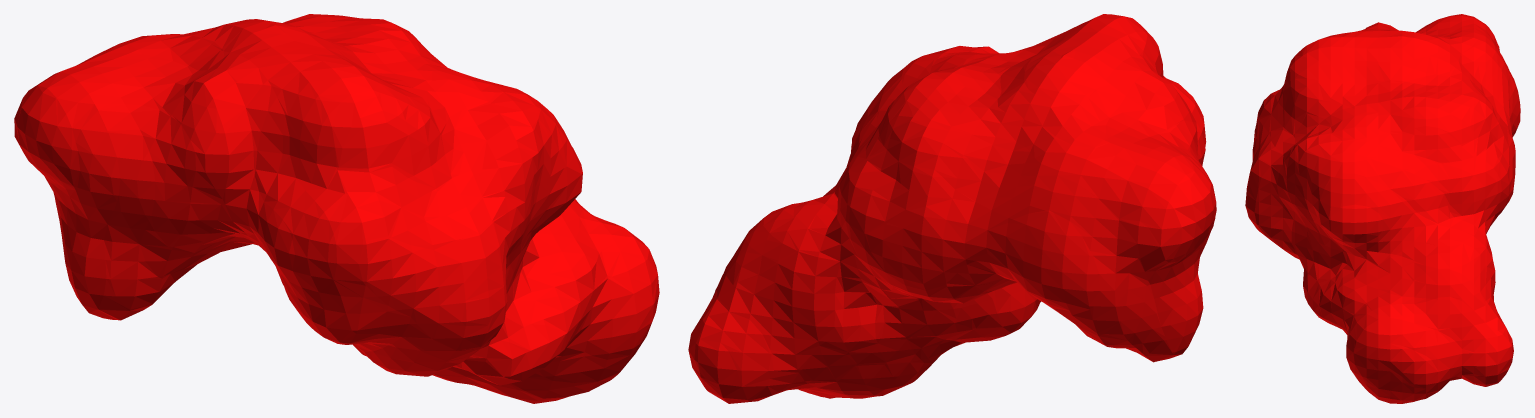
File: birA_coarse.dae
The picture shows the model from 3 angles, left to right: view 1: azimuth 30°, elevation 25°; view 2: azimuth 150°, elevation 25°; view 3: azimuth 270°, elevation 25°; orthographic projection. The views are drawn at different scales.
Parts seen in each view (by area): view 1: birA; view 2: birA; view 3: birA.
Boxes of the visible parts, box(x1,y1,x2,y2) form: birA: box(14, 14, 659, 403); birA: box(688, 14, 1216, 403); birA: box(1245, 14, 1520, 403).
Size of the model in its own units: 72.45 by 52.82 by 47.57.
